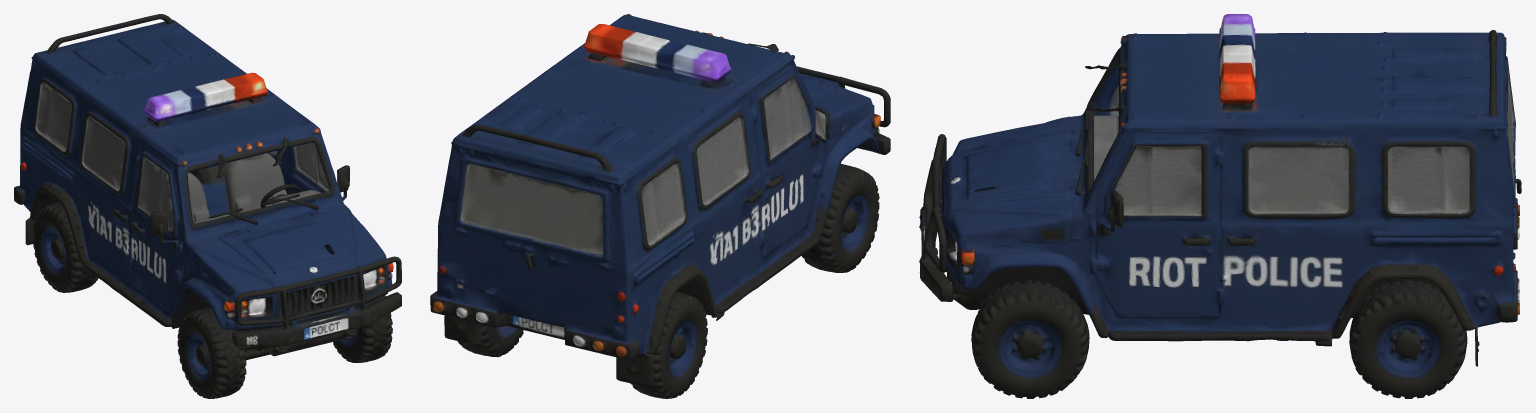
Rendered from 038_riot_van.glb.
3 views of the same model, side by side, from view 1: azimuth 30°, elevation 25°; view 2: azimuth 150°, elevation 25°; view 3: azimuth 270°, elevation 25° (orthographic). The views are drawn at different scales.
Parts seen in each view (by area): view 1: geometry_0; view 2: geometry_0; view 3: geometry_0.
Boxes of the visible parts, x1,y1,x2,y2 form: geometry_0: (14, 14, 401, 398); geometry_0: (430, 14, 890, 398); geometry_0: (919, 14, 1521, 398).
Bounding box in the file's own units: 2.98 × 3.32 × 6.
1 material, 1 textured.
